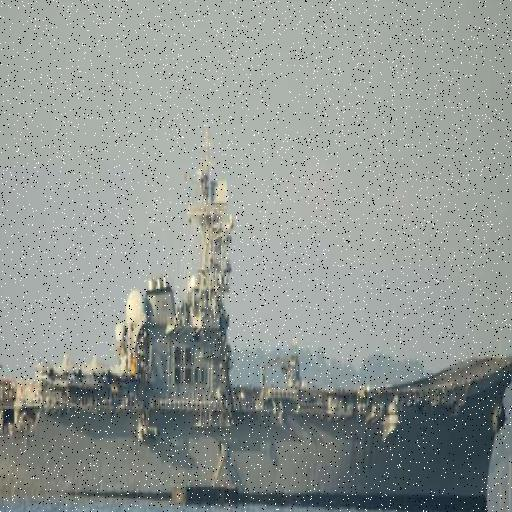Portanaves: (1, 154, 512, 512)
